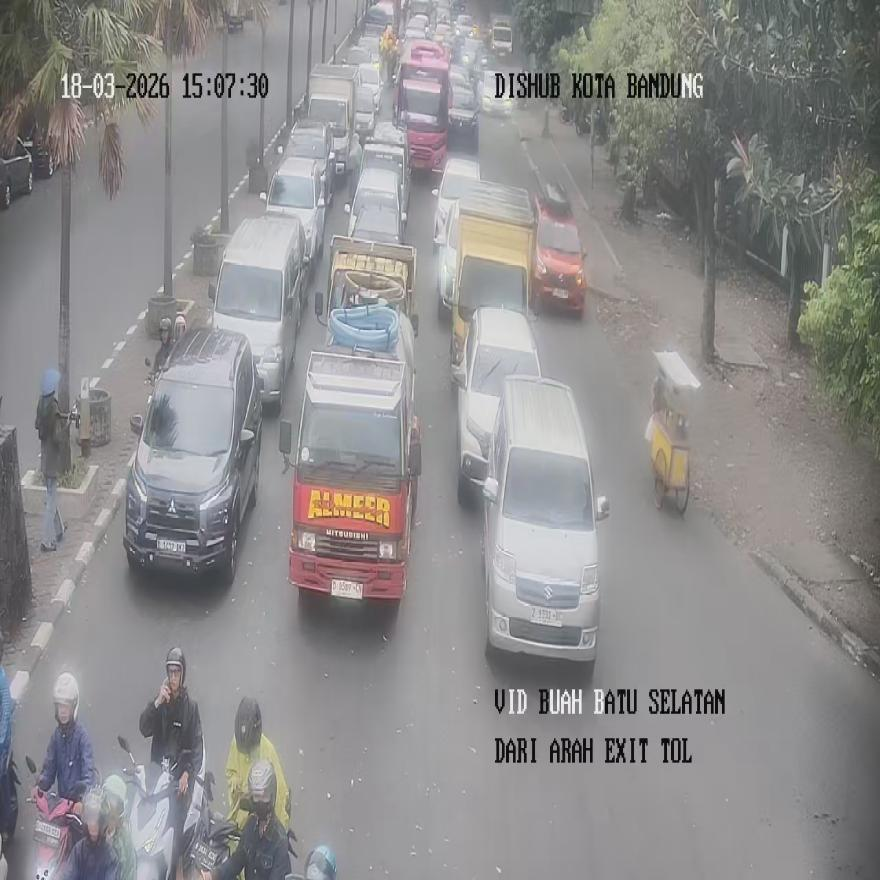Mobil: (481, 375, 608, 675), (124, 326, 261, 583), (207, 215, 302, 411), (452, 306, 540, 492), (345, 121, 411, 244), (531, 182, 586, 315)
Motor: (116, 737, 209, 880), (26, 755, 90, 880), (177, 770, 239, 879), (0, 665, 19, 863)
Truk berat: (278, 344, 422, 602)
Truk ringan: (449, 181, 536, 374)
